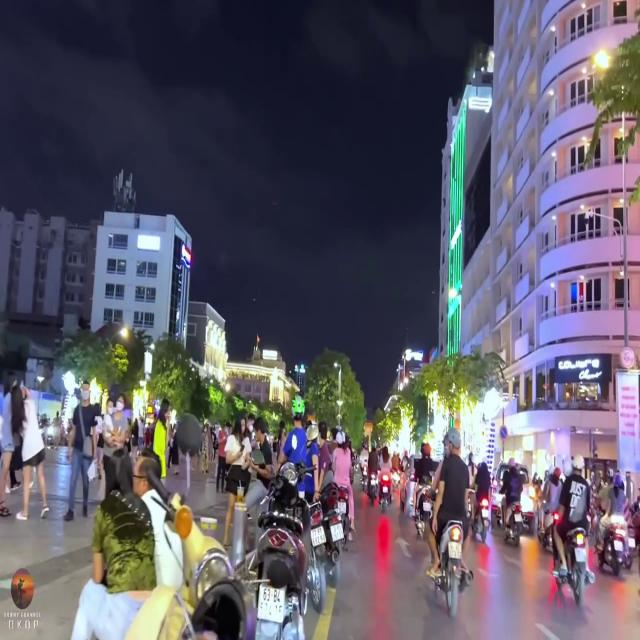bien_trang: (256, 582, 288, 626)
